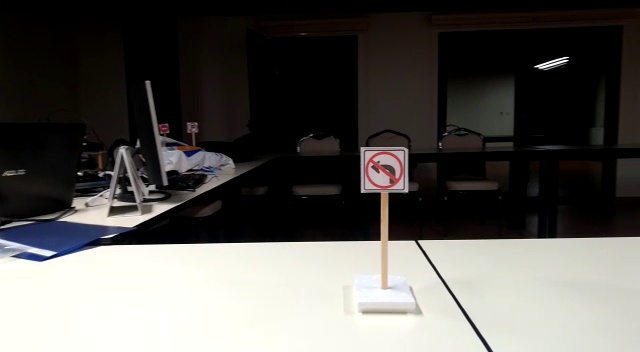sola_donulmez: (362, 150, 405, 187)
